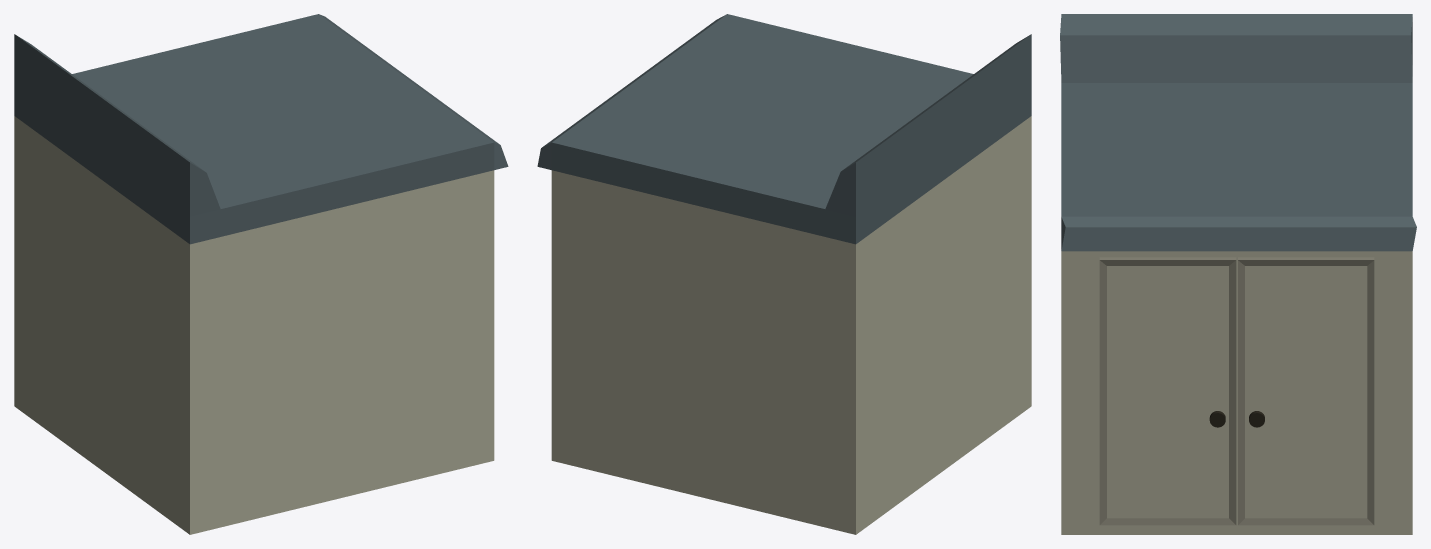
File: Closed2DoorCounterV1.fbx
The picture shows the model from 3 angles, left to right: view 1: azimuth 30°, elevation 25°; view 2: azimuth 150°, elevation 25°; view 3: azimuth 270°, elevation 25°; orthographic projection.
Visible parts, largest first — view 1: Counter; view 2: Counter; view 3: Counter.
Boxes of the visible parts, bbox=[...] form: Counter: bbox=[14, 14, 508, 534]; Counter: bbox=[537, 14, 1031, 534]; Counter: bbox=[1060, 14, 1416, 534].
Size of the model in its own units: 523 by 539 by 603.
